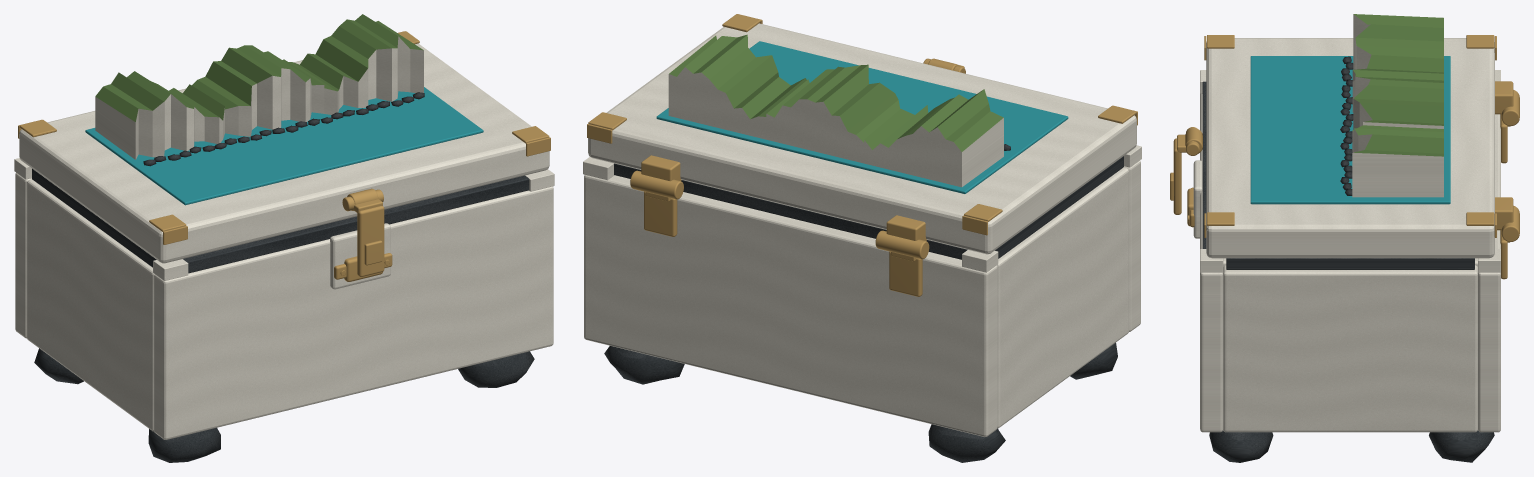
File: denmark.glb
The picture shows the model from 3 angles, left to right: view 1: azimuth 30°, elevation 25°; view 2: azimuth 150°, elevation 25°; view 3: azimuth 270°, elevation 25°; orthographic projection. The views are drawn at different scales.
Visible parts, largest first — view 1: Chalk body / long, Lid / polished slab, Chalk body / end, Baltic / water inset, Landscape / chalk cliff 0, Landscape / chalk cliff 2, Landscape / chalk cliff 1, Flint seam / long, Chalk body / long.001, Flint foot, Flint foot.002, Latch / lifting hasp (+4 smaller); view 2: Chalk body / long.001, Lid / polished slab, Chalk body / end, Landscape / chalk cliff 0, Baltic / water inset, Landscape / chalk cliff 2, Landscape / chalk cliff 1, Flint seam / long.001, Chalk body / long, Flint foot.001, Flint foot.003, Flint seam / side (+8 smaller); view 3: Chalk body / end.001, Lid / polished slab, Baltic / water inset, Landscape / chalk cliff 2, Landscape / chalk cliff 0, Landscape / chalk cliff 1, Chalk body / long.001, Chalk body / long, Flint seam / side.001, Flint foot.002, Flint foot.003, Flint seam / long (+12 smaller).
Part boxes in pixels (x1,y1,x2,y2): Chalk body / long: [154, 186, 553, 439]; Lid / polished slab: [19, 43, 549, 263]; Chalk body / end: [27, 179, 154, 431]; Baltic / water inset: [85, 87, 483, 205]; Landscape / chalk cliff 0: [95, 71, 224, 159]; Landscape / chalk cliff 2: [289, 14, 423, 114]; Landscape / chalk cliff 1: [192, 45, 324, 136]; Flint seam / long: [183, 175, 529, 273]; Chalk body / long.001: [15, 172, 31, 338]; Flint foot: [148, 428, 220, 462]; Flint foot.002: [458, 351, 534, 387]; Latch / lifting hasp: [357, 206, 384, 276]; Chalk body / long.001: [584, 175, 997, 436]; Lid / polished slab: [588, 23, 1136, 254]; Chalk body / end: [997, 167, 1128, 428]; Landscape / chalk cliff 0: [864, 89, 1003, 187]; Baltic / water inset: [656, 41, 1068, 193]; Landscape / chalk cliff 2: [668, 34, 806, 139]; Landscape / chalk cliff 1: [766, 64, 900, 163]; Flint seam / long.001: [614, 163, 967, 259]; Chalk body / long: [1124, 160, 1140, 331]; Flint foot.001: [928, 424, 1005, 462]; Flint foot.003: [604, 346, 684, 384]; Flint seam / side: [995, 156, 1123, 258]; Chalk body / end.001: [1223, 265, 1477, 432]; Lid / polished slab: [1206, 38, 1494, 258]; Baltic / water inset: [1250, 56, 1450, 204]; Landscape / chalk cliff 2: [1352, 125, 1443, 197]; Landscape / chalk cliff 0: [1352, 14, 1443, 81]; Landscape / chalk cliff 1: [1352, 70, 1443, 129]; Chalk body / long.001: [1478, 114, 1500, 432]; Chalk body / long: [1200, 93, 1223, 432]; Flint seam / side.001: [1226, 258, 1474, 269]; Flint foot.002: [1209, 431, 1273, 462]; Flint foot.003: [1429, 431, 1494, 462]; Flint seam / long: [1202, 81, 1206, 248].
Bounding box in the file's own units: 3.72 × 2.83 × 2.88.
5 materials, 2 textured.
